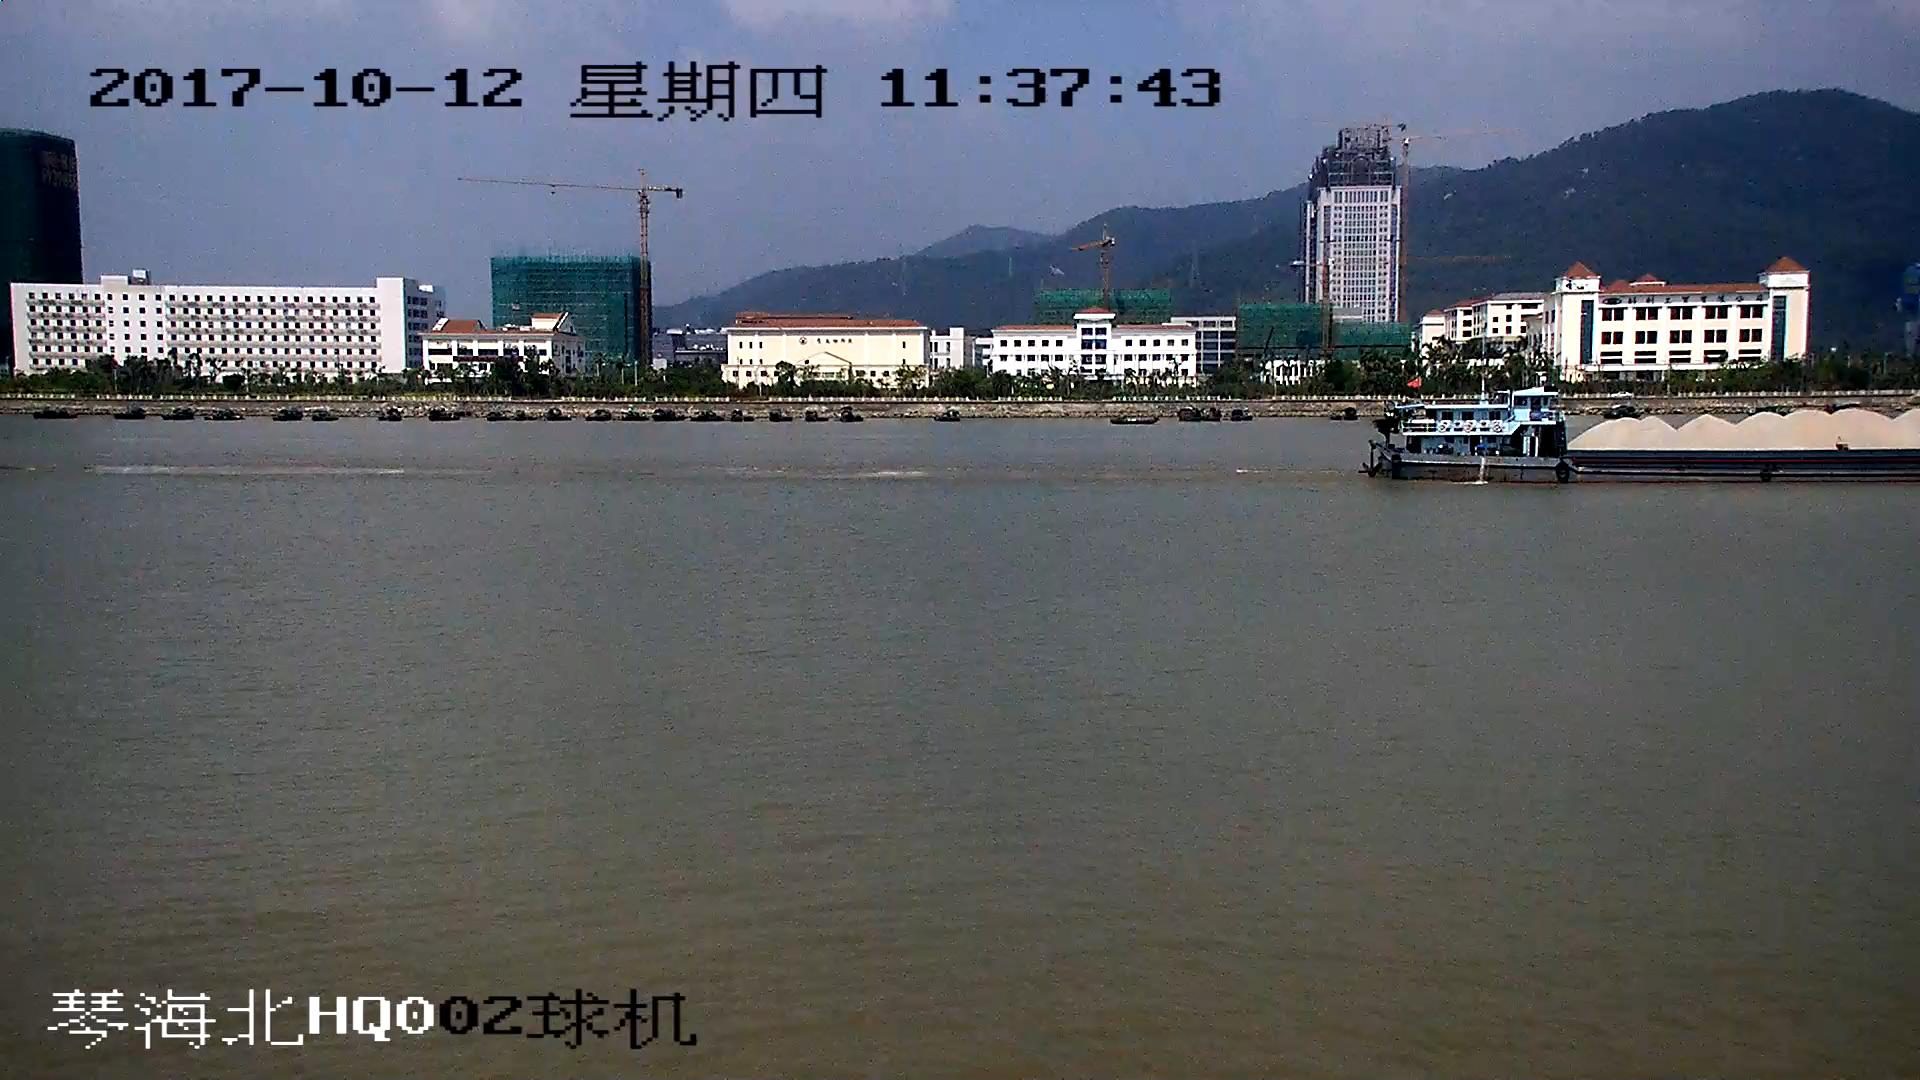ore carrier: (1382, 389, 1920, 483)
